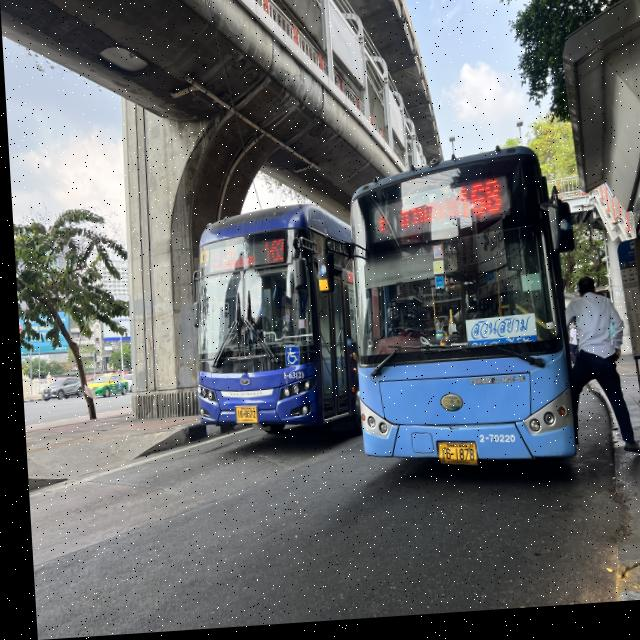BMTA-bus: (346, 156, 573, 476)
Bus Line Number: (453, 181, 501, 223), (259, 240, 284, 269)
Bus Side Number: (470, 435, 512, 456), (275, 373, 300, 385)
Destination Sign: (462, 322, 532, 354), (205, 248, 254, 274)
TSB-Bus: (193, 209, 354, 441)
